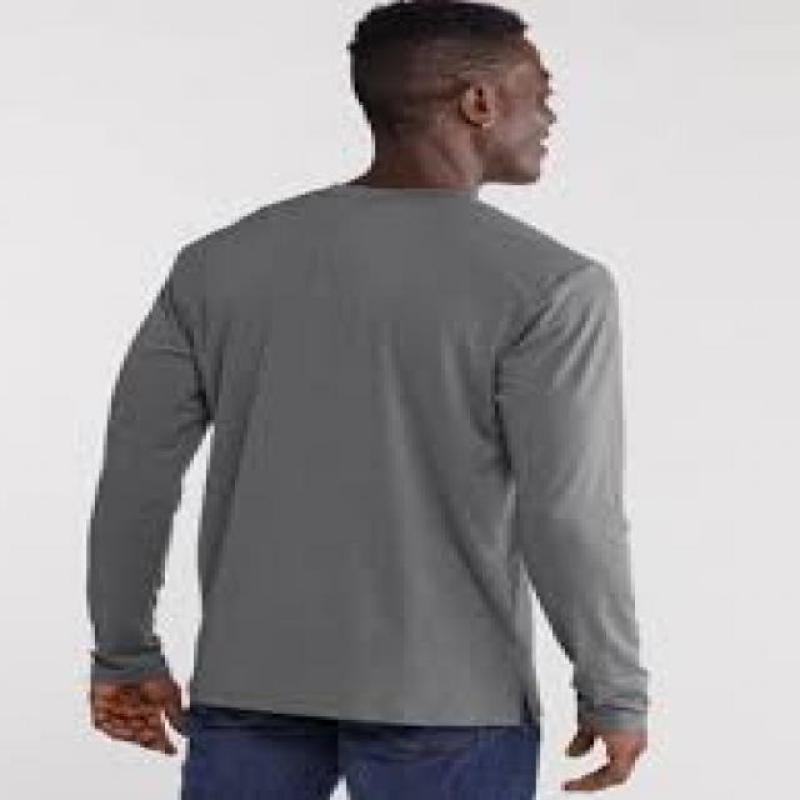long sleeve shirt: (80, 180, 654, 738)
trousers: (179, 703, 543, 800)
